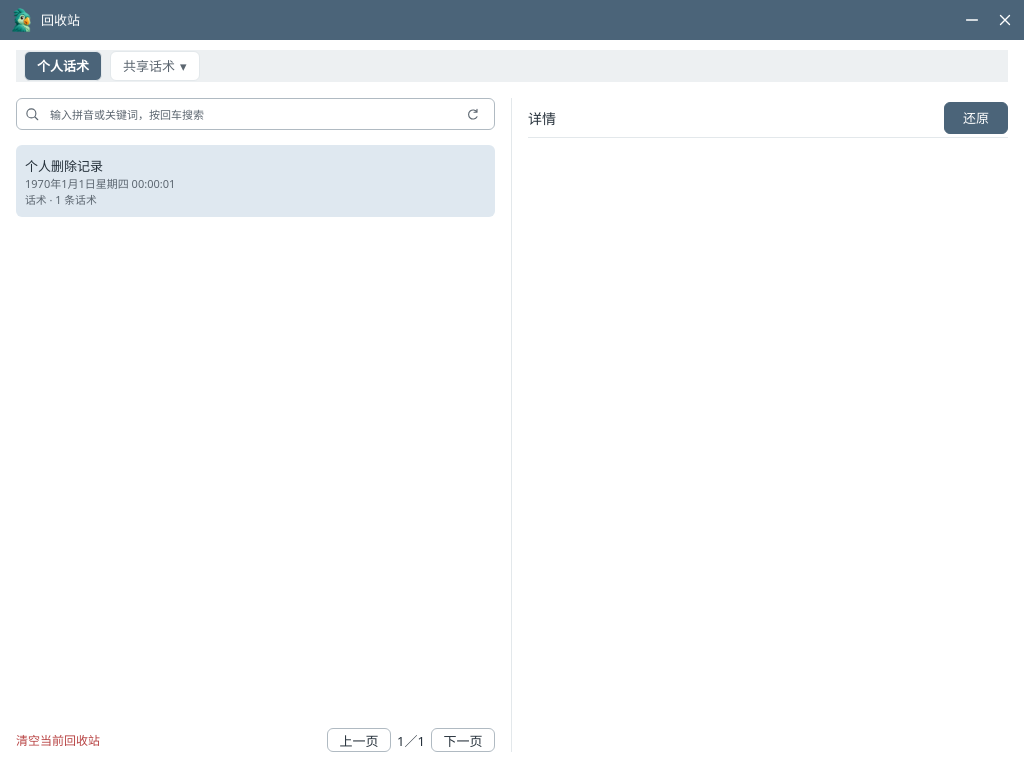
统一回收站 › 个人清空绑定 libraryId，失败保留确认框和记录
Expected: the text "个人删除记录" is shown, [25, 156, 103, 174]
Click the button "清空当前回收站": x=58, y=740 [16, 728, 100, 752]
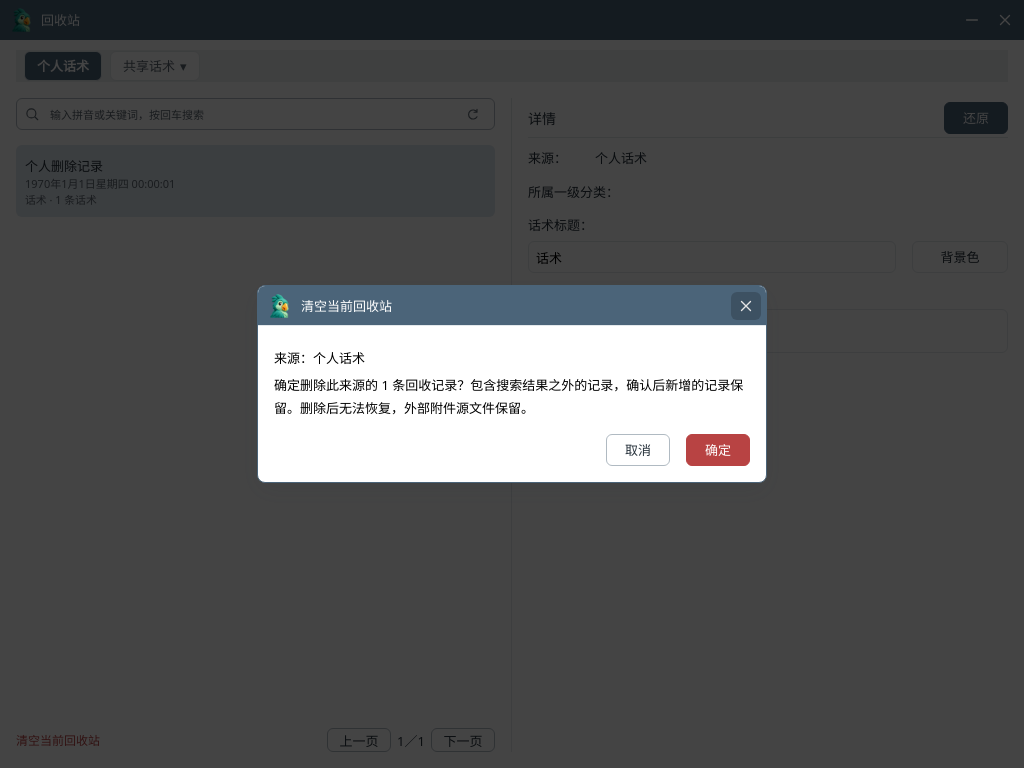
Click the button "确定": x=718, y=450 [686, 434, 750, 466]
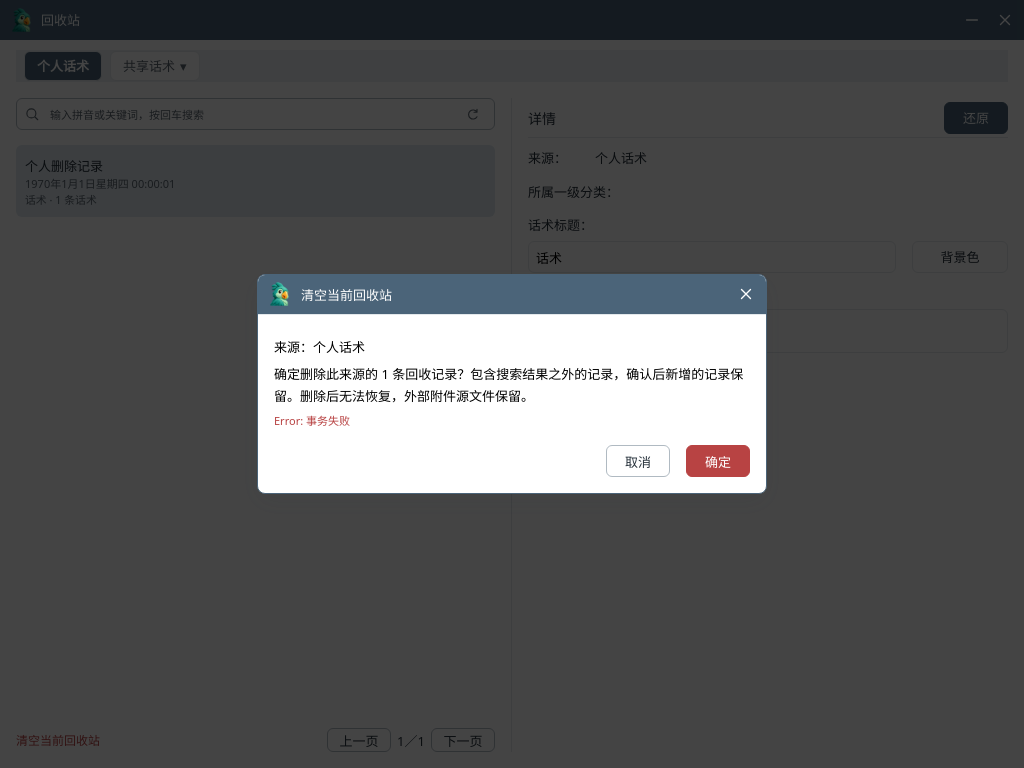
Expected: the text "个人删除记录" is shown, [25, 156, 103, 174]
Result: the dialog is shown at [257, 274, 767, 494]
Result: the message "Error: 事务失败" is shown at [274, 413, 350, 428]
